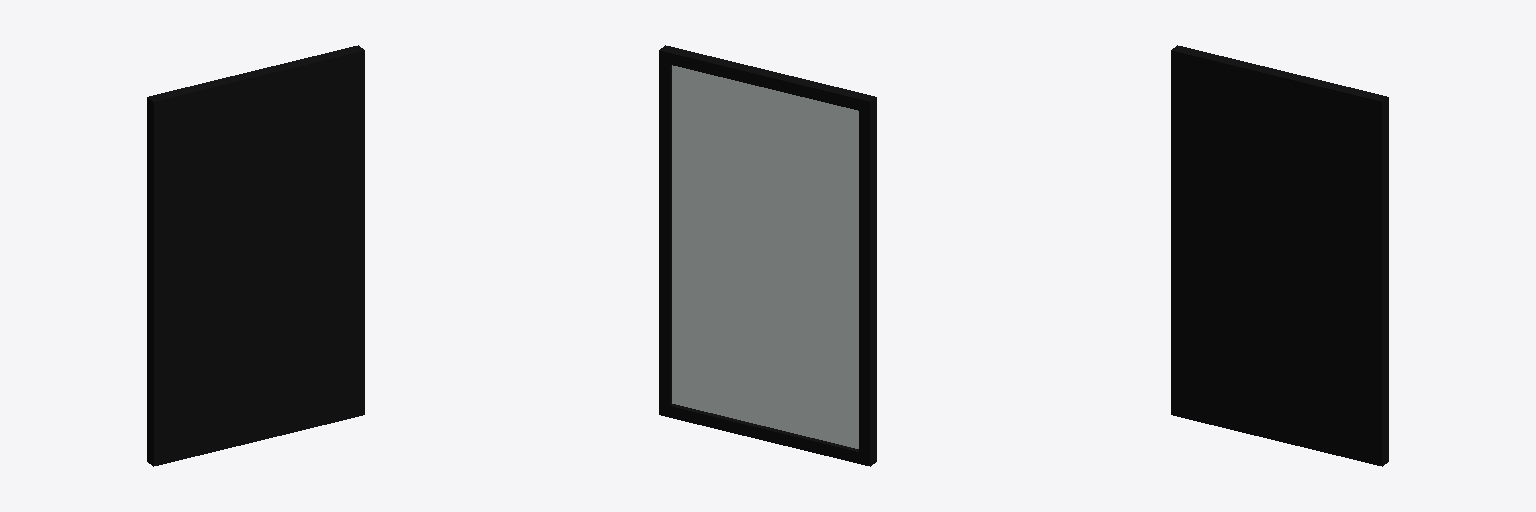
File: picframe.obj
The picture shows the model from 3 angles: view 1: azimuth 30°, elevation 25°; view 2: azimuth 150°, elevation 25°; view 3: azimuth 330°, elevation 25°; orthographic projection.
Visible parts, largest first — view 1: model; view 2: model; view 3: model.
Boxes of the visible parts, box(x1,y1,x2,y2) form: model: box(147, 45, 364, 466); model: box(659, 45, 876, 466); model: box(1171, 45, 1388, 466).
Bounding box in the file's own units: 0.54 × 0.89 × 0.03.